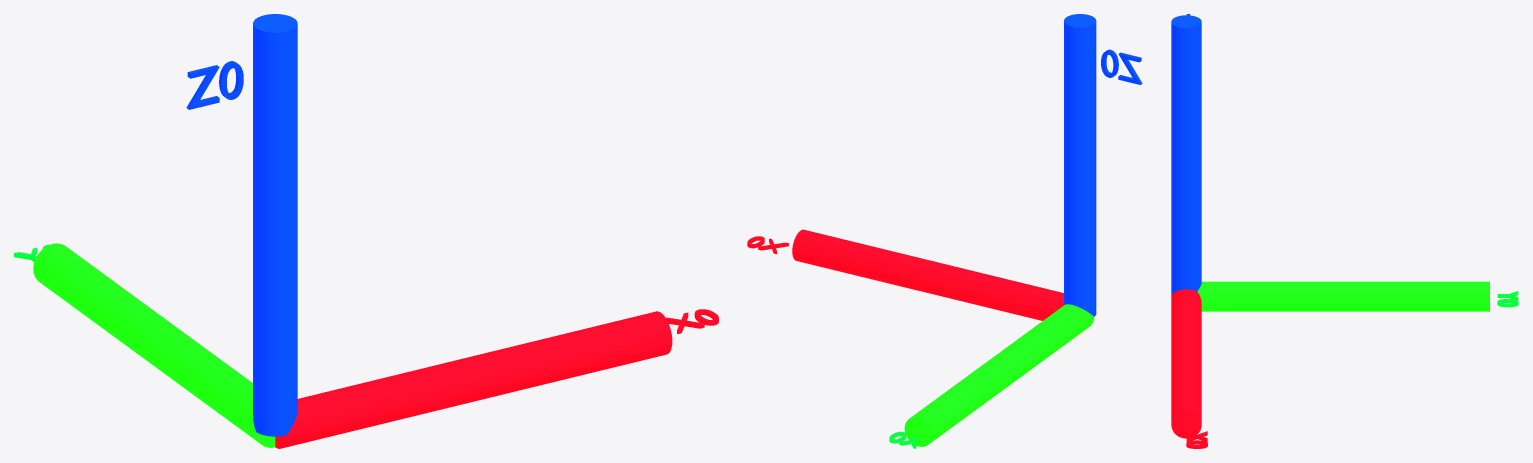
Rendered from axis_frame_0.dae.
3 views of the same model, side by side, from view 1: azimuth 30°, elevation 25°; view 2: azimuth 150°, elevation 25°; view 3: azimuth 270°, elevation 25° (orthographic). The views are drawn at different scales.
Visible parts, largest first — view 1: FRAME_0, Text.002; view 2: FRAME_0, Text.002; view 3: FRAME_0.
Part boxes in pixels (left/top/right/bottom): FRAME_0: left=33, top=14, right=672, bottom=448; Text.002: left=186, top=61, right=243, bottom=109; FRAME_0: left=792, top=14, right=1096, bottom=446; Text.002: left=1101, top=49, right=1142, bottom=84; FRAME_0: left=1171, top=15, right=1489, bottom=438.
Size of the model in its own units: 1.04 by 0.8583 by 0.7875.
